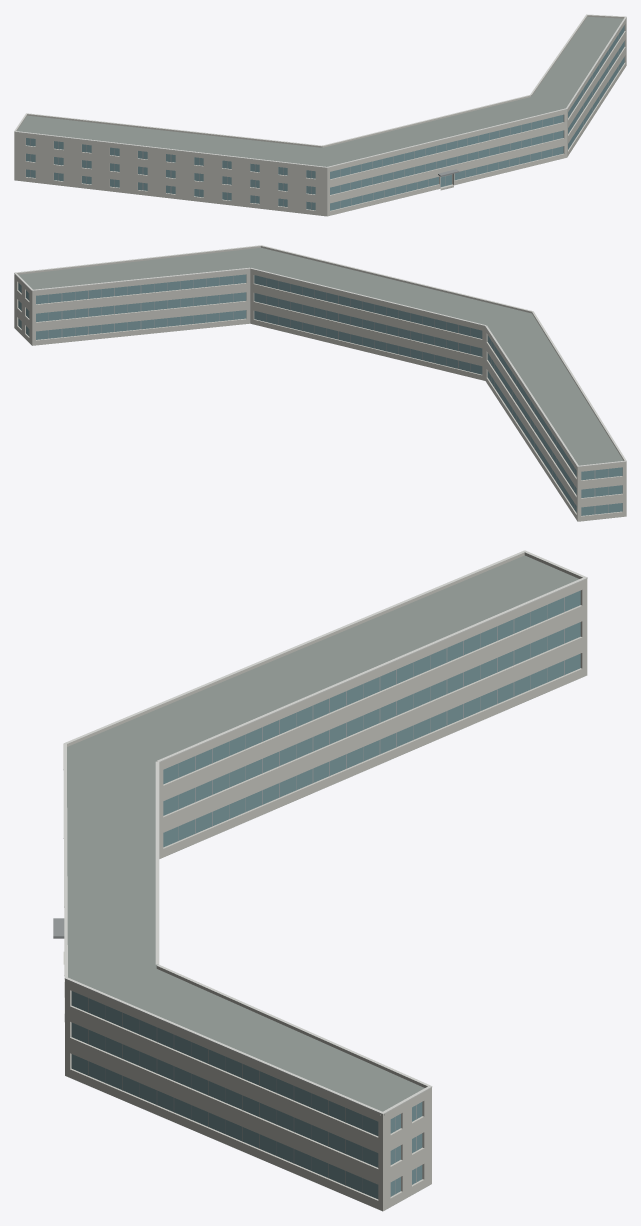
3 views of the same model, one above another, from view 1: azimuth 30°, elevation 25°; view 2: azimuth 150°, elevation 25°; view 3: azimuth 270°, elevation 25° (orthographic). The views are drawn at different scales.
Visible parts, largest first — view 1: osm761589237__wall, osm761589237__roof, osm761589237__glass, osm761589237__parapet, osm761589237__trim, osm761589237__frame; view 2: osm761589237__wall, osm761589237__roof, osm761589237__glass, osm761589237__trim, osm761589237__parapet, osm761589237__frame; view 3: osm761589237__roof, osm761589237__wall, osm761589237__glass, osm761589237__trim, osm761589237__parapet, osm761589237__frame.
Boxes of the visible parts, bbox=[...] form: osm761589237__wall: bbox=[14, 19, 626, 216]; osm761589237__roof: bbox=[15, 16, 623, 216]; osm761589237__glass: bbox=[26, 25, 624, 210]; osm761589237__parapet: bbox=[14, 15, 626, 168]; osm761589237__trim: bbox=[14, 14, 626, 167]; osm761589237__frame: bbox=[30, 34, 618, 209]; osm761589237__wall: bbox=[14, 270, 626, 521]; osm761589237__roof: bbox=[14, 247, 623, 521]; osm761589237__glass: bbox=[18, 274, 622, 515]; osm761589237__trim: bbox=[14, 245, 626, 466]; osm761589237__parapet: bbox=[14, 246, 626, 468]; osm761589237__frame: bbox=[28, 276, 608, 514]; osm761589237__roof: bbox=[66, 555, 586, 1211]; osm761589237__wall: bbox=[64, 581, 587, 1211]; osm761589237__glass: bbox=[71, 590, 580, 1198]; osm761589237__trim: bbox=[63, 550, 587, 1114]; osm761589237__parapet: bbox=[65, 552, 587, 1116]; osm761589237__frame: bbox=[88, 597, 564, 1194].
Bounding box in the file's own units: 138 × 11.55 × 55.27.
